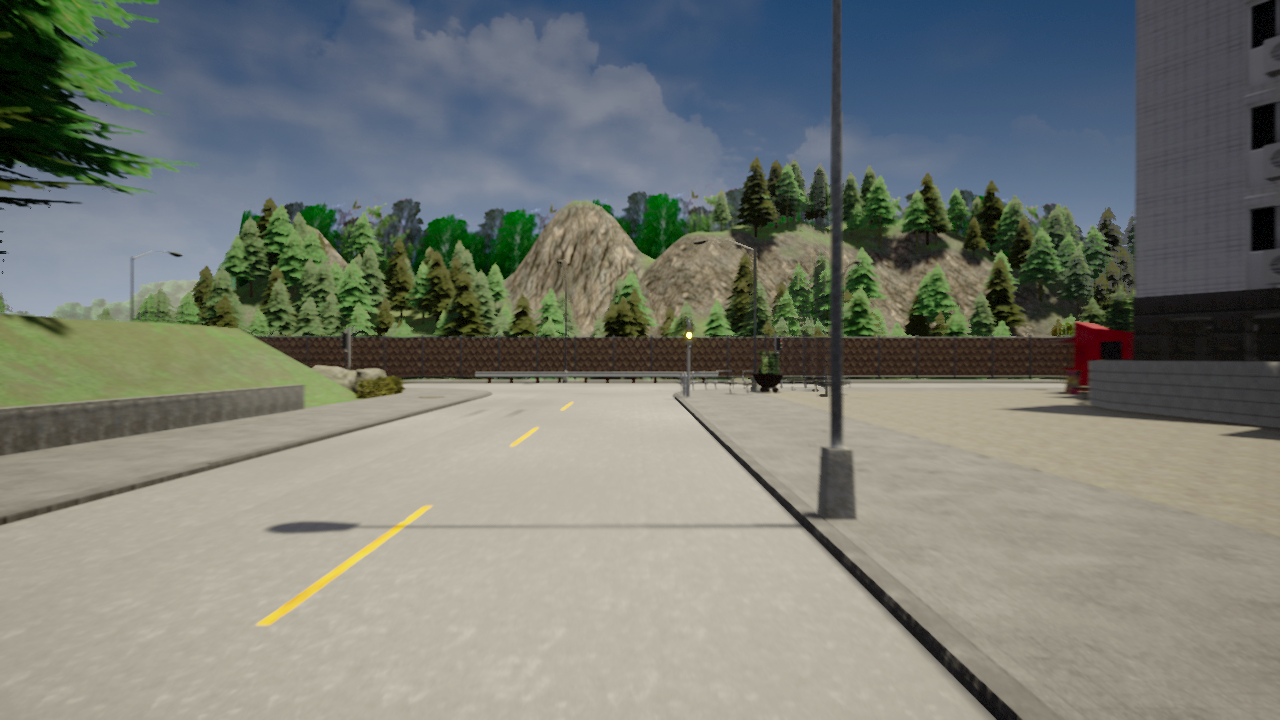yellow: (685, 325, 693, 345)
